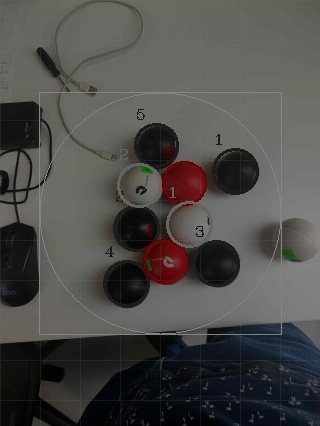Pelota blanca: (52, 0, 145, 94), (58, 92, 131, 160), (0, 222, 38, 310), (209, 145, 259, 195), (113, 161, 163, 208), (164, 201, 214, 248), (273, 217, 320, 264)
Pelota negra: (209, 145, 259, 195), (100, 260, 150, 310), (193, 238, 241, 288), (111, 206, 161, 254), (132, 121, 179, 166)
Pelota roja: (140, 236, 190, 286), (159, 158, 209, 206)
